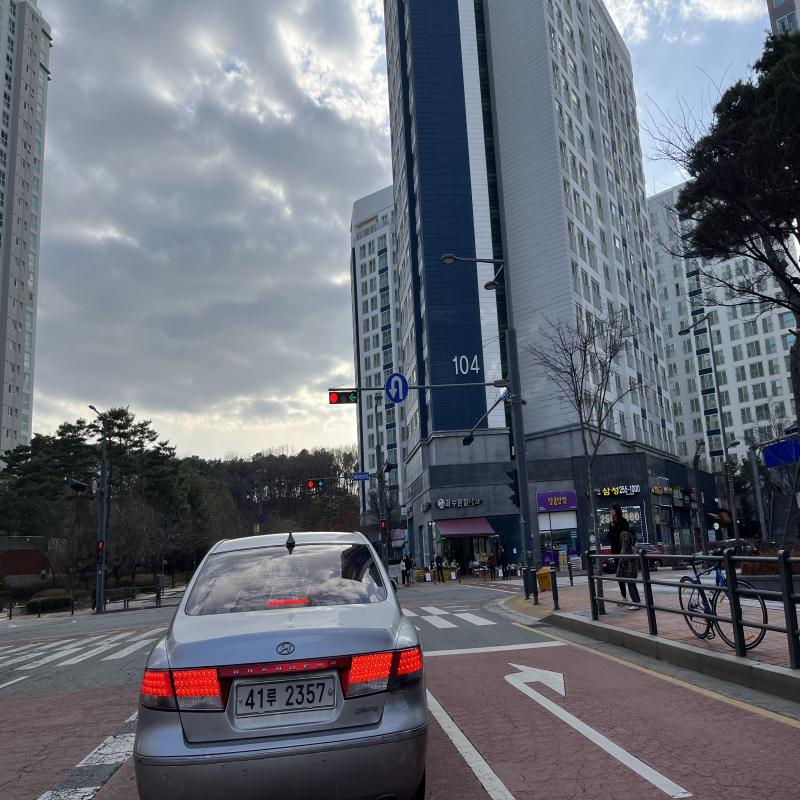left: (348, 394, 358, 404)
